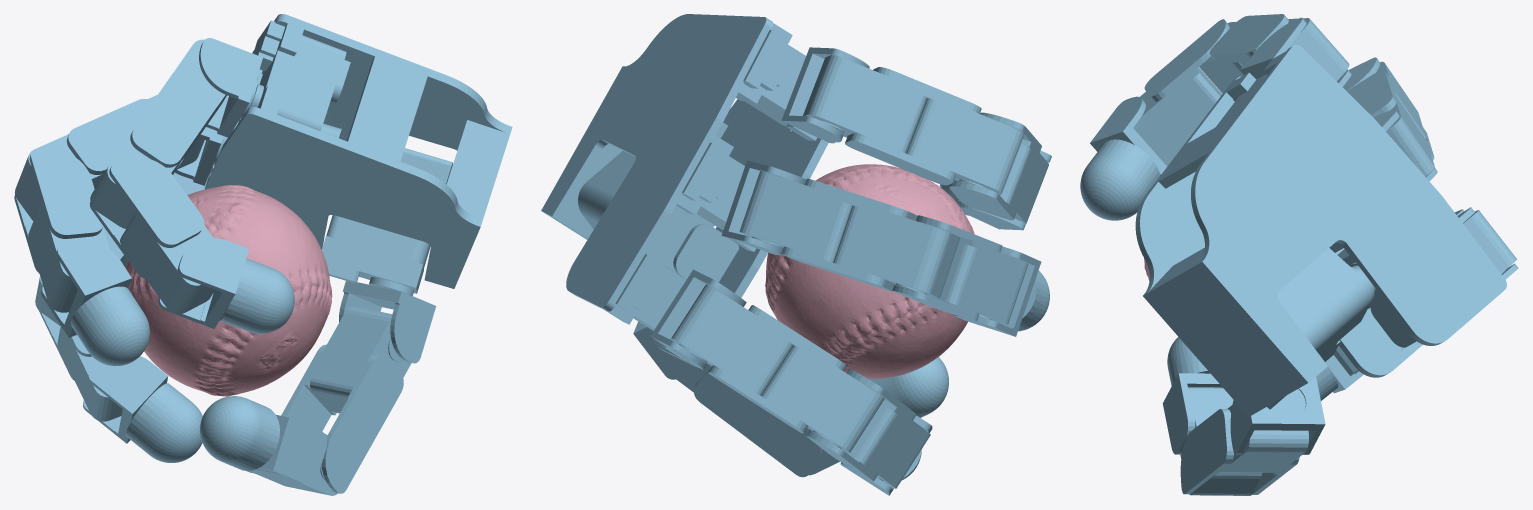
3 views of the same model, side by side, from view 1: azimuth 30°, elevation 25°; view 2: azimuth 150°, elevation 25°; view 3: azimuth 270°, elevation 25° (orthographic). The views are drawn at different scales.
Parts seen in each view (by area): view 1: world, baseball.stl; view 2: world, baseball.stl; view 3: world.
Boxes of the visible parts, bbox=[...] form: world: bbox=[14, 14, 512, 495]; baseball.stl: bbox=[125, 185, 332, 396]; world: bbox=[541, 14, 1051, 495]; baseball.stl: bbox=[765, 164, 974, 378]; world: bbox=[1080, 14, 1518, 495].
Size of the model in its own units: 0.1812 by 0.1756 by 0.1523.
